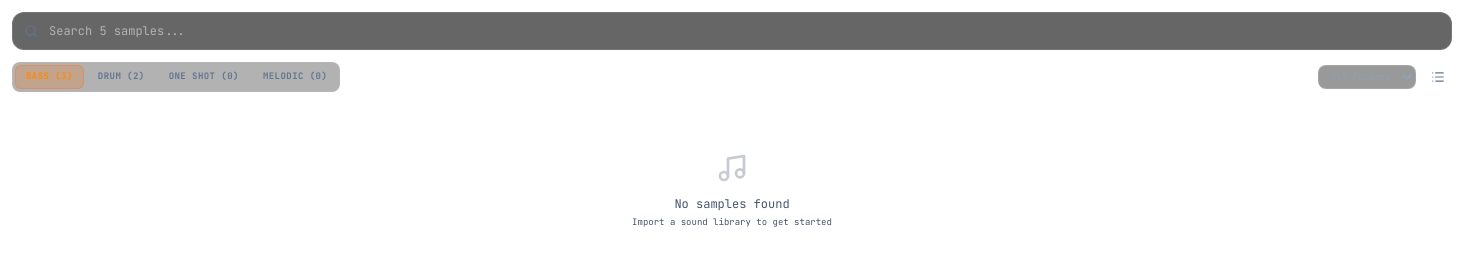
Test: PresetBrowser › clicking active tag X removes individual tag
Type "el" into the field with placeholder "Search 5 samples..." at [732, 31], box [12, 12, 1452, 50]
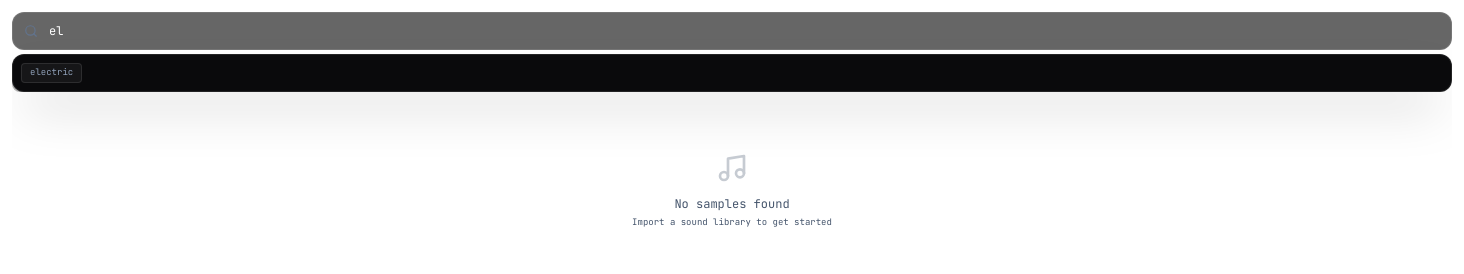
Click the button "electric" at [52, 73], box [21, 63, 82, 82]
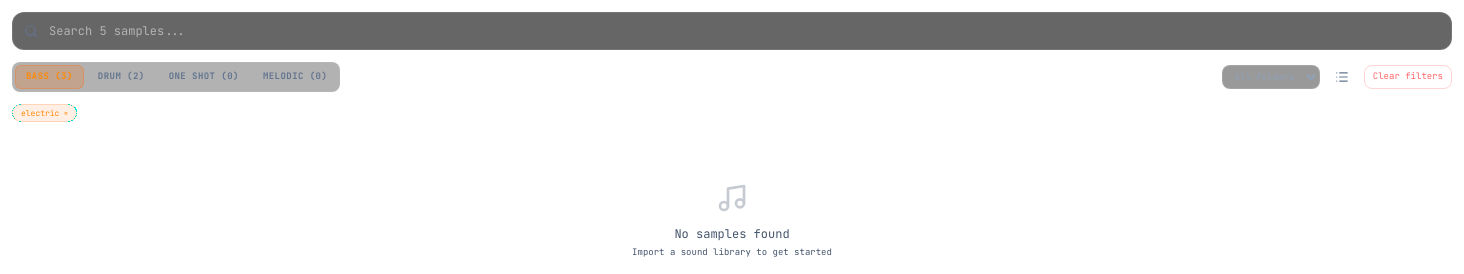
Now the button "Clear filters" is shown, box [1364, 65, 1452, 88]
Click the button "×" at [66, 112], box [63, 106, 68, 118]
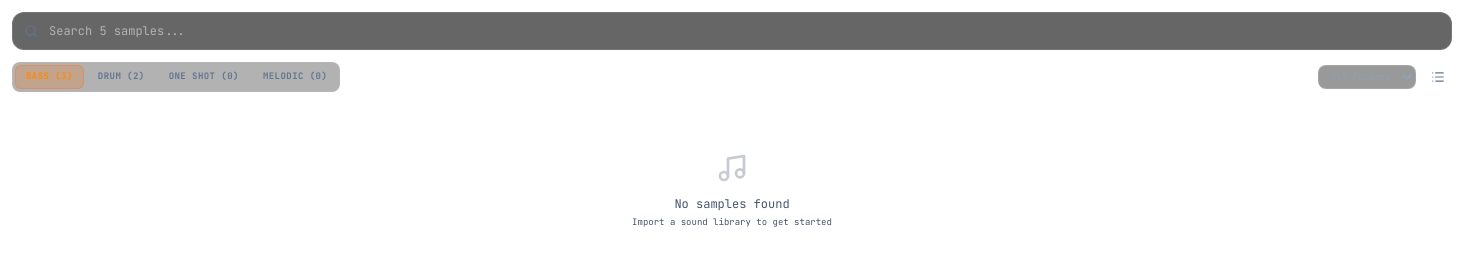
Now the button "×" is gone
